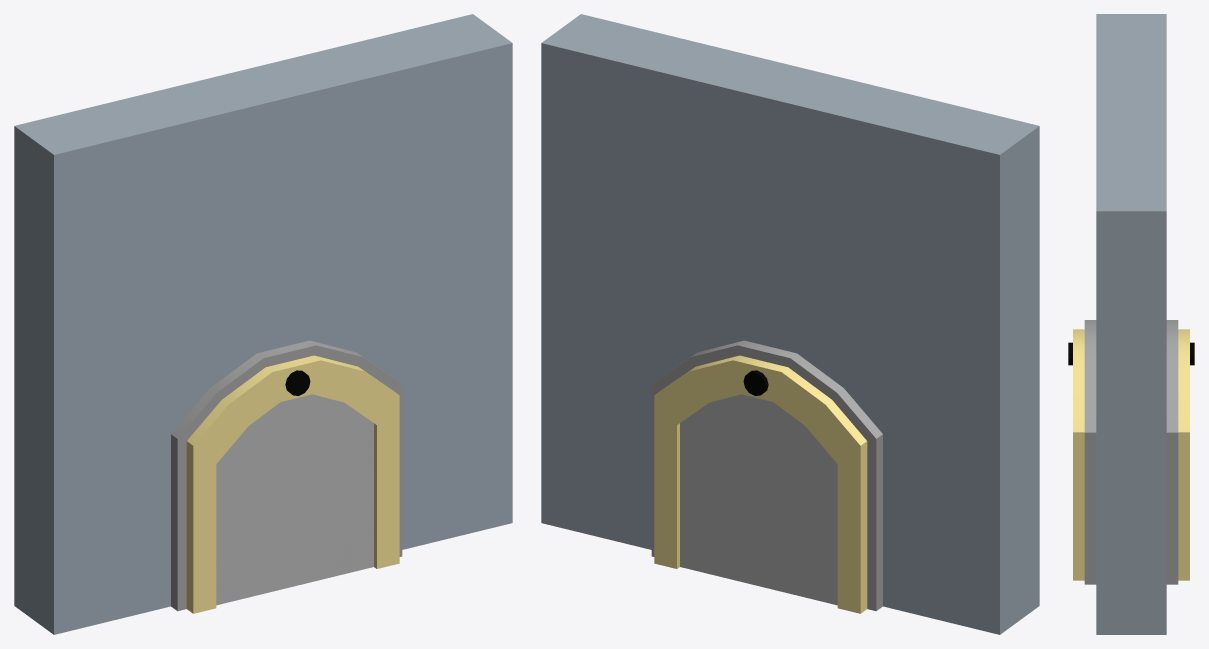
Rendered from SM_Wall_2M_slim_door.fbx.
3 renders of one model, left to right at view 1: azimuth 30°, elevation 25°; view 2: azimuth 150°, elevation 25°; view 3: azimuth 270°, elevation 25°, orthographic. The views are drawn at different scales.
Parts seen in each view (by area): view 1: SM_Wall_2M_slim_door, SM_Barrier_Slim_door; view 2: SM_Wall_2M_slim_door, SM_Barrier_Slim_door; view 3: SM_Wall_2M_slim_door.
Part boxes in pixels (left/top/right/bottom): SM_Wall_2M_slim_door: left=14, top=14, right=512, bottom=634; SM_Barrier_Slim_door: left=216, top=394, right=373, bottom=605; SM_Wall_2M_slim_door: left=541, top=14, right=1039, bottom=634; SM_Barrier_Slim_door: left=680, top=394, right=837, bottom=605; SM_Wall_2M_slim_door: left=1068, top=14, right=1194, bottom=634.
Size of the model in its own units: 200 by 200 by 54.
